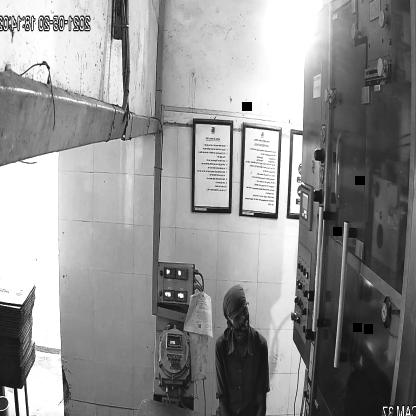goggles: (226, 302, 252, 329)
